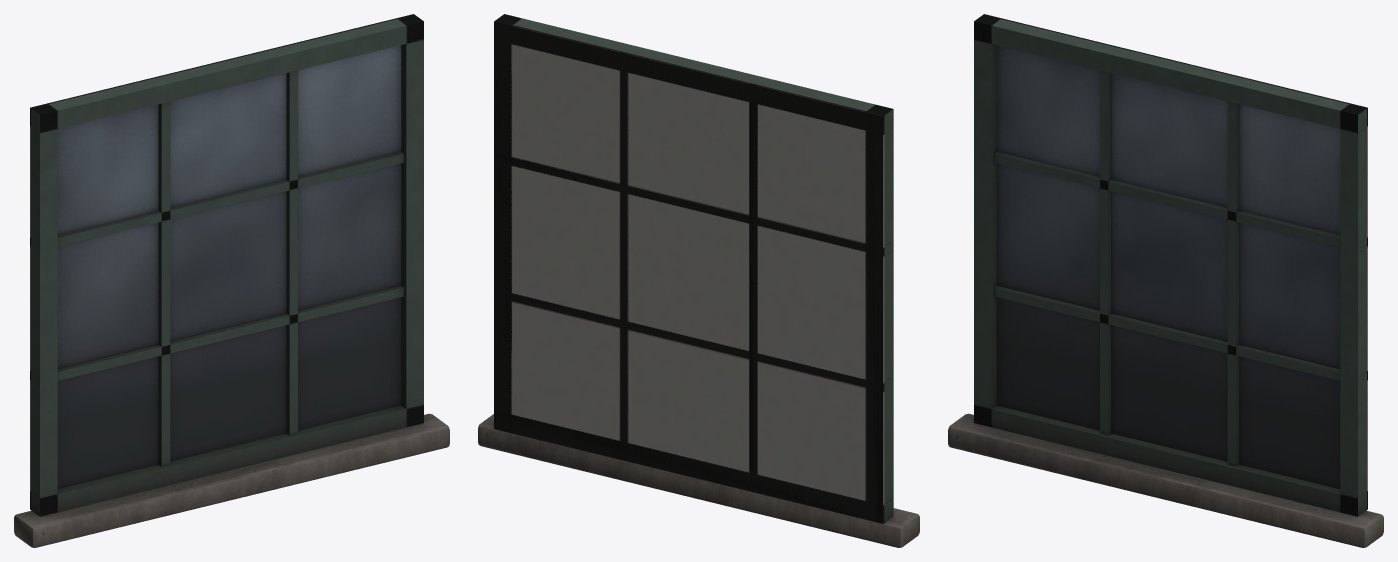
File: win_factory_sq.glb
3 views of the same model, side by side, from view 1: azimuth 30°, elevation 25°; view 2: azimuth 150°, elevation 25°; view 3: azimuth 330°, elevation 25° (orthographic).
Parts seen in each view (by area): view 1: win_factory_sq; view 2: win_factory_sq; view 3: win_factory_sq.
Part boxes in pixels (box(x1,y1,x2,y2)): win_factory_sq: box(14, 14, 449, 547); win_factory_sq: box(478, 14, 919, 547); win_factory_sq: box(948, 14, 1383, 547).
Size of the model in its own units: 1.2 by 1.16 by 0.1.
1 material, 1 textured.
